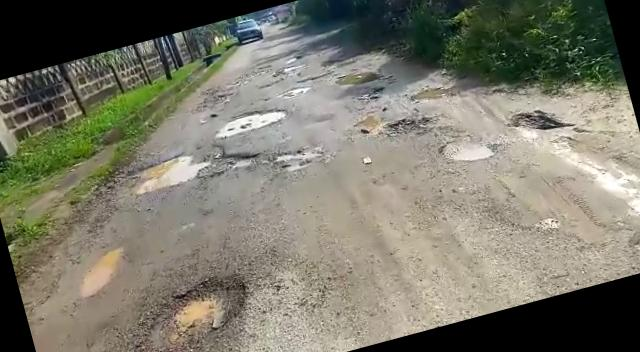pothole: (126, 267, 262, 352), (122, 135, 254, 197), (210, 100, 290, 138), (436, 125, 499, 168), (267, 142, 324, 178), (277, 82, 312, 98)
